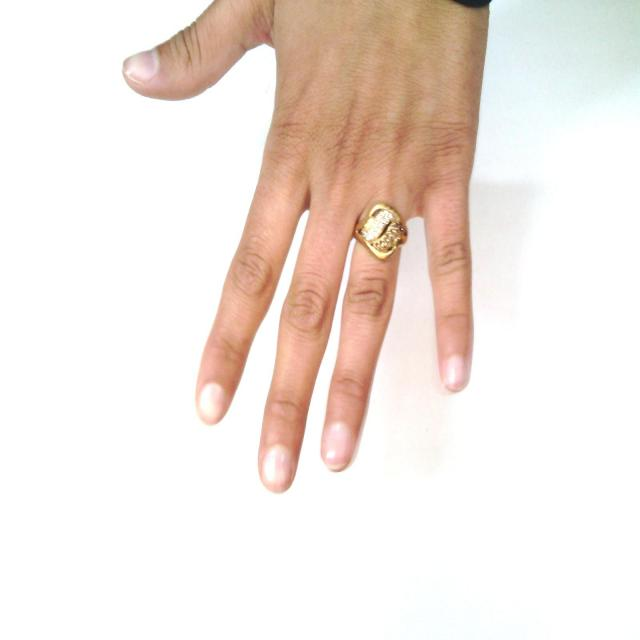others: (116, 1, 507, 494)
